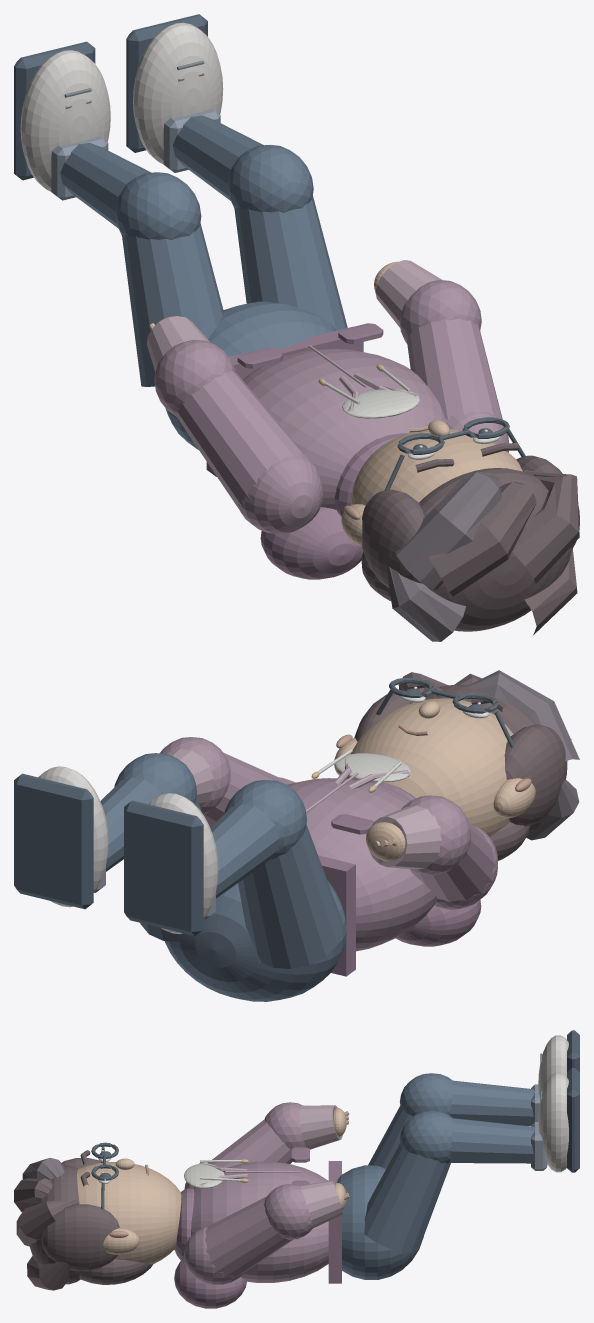
The model's file is designer_idle_0.glb.
The picture shows the model from 3 angles, top to bottom: view 1: azimuth 30°, elevation 25°; view 2: azimuth 150°, elevation 25°; view 3: azimuth 270°, elevation 25°; orthographic projection. The views are drawn at different scales.
Visible parts, largest first — view 1: 0000__hoodie_main_torso, 0065__jeans_thigh, 0046__jeans_thigh, 0057__sleeve_upper, 0050__sneaker, 0069__sneaker, 0076__sleeve_upper, 0022__hair_crown, 0017__face_head, 0026__hair_lock_0, 0027__hair_lock_1, 0014__pants_pelvis (+22 smaller); view 2: 0017__face_head, 0000__hoodie_main_torso, 0046__jeans_thigh, 0070__rubber_sole, 0051__rubber_sole, 0014__pants_pelvis, 0024__temple_side, 0048__jeans_shin, 0047__knee_fold, 0057__sleeve_upper, 0026__hair_lock_0, 0059__sleeve_forearm (+21 smaller); view 3: 0000__hoodie_main_torso, 0017__face_head, 0065__jeans_thigh, 0014__pants_pelvis, 0076__sleeve_upper, 0025__temple_side, 0067__jeans_shin, 0048__jeans_shin, 0069__sneaker, 0066__knee_fold, 0077__elbow_fold, 0057__sleeve_upper (+21 smaller).
Part boxes in pixels (bbox=[...]): 0000__hoodie_main_torso: bbox=[243, 349, 445, 509]; 0065__jeans_thigh: bbox=[234, 196, 347, 330]; 0046__jeans_thigh: bbox=[122, 223, 223, 386]; 0057__sleeve_upper: bbox=[176, 370, 303, 510]; 0050__sneaker: bbox=[20, 50, 110, 191]; 0069__sneaker: bbox=[133, 22, 223, 164]; 0076__sleeve_upper: bbox=[407, 318, 502, 420]; 0022__hair_crown: bbox=[419, 468, 571, 631]; 0017__face_head: bbox=[351, 429, 522, 505]; 0026__hair_lock_0: bbox=[395, 472, 502, 589]; 0027__hair_lock_1: bbox=[428, 481, 536, 596]; 0014__pants_pelvis: bbox=[165, 301, 336, 449]; 0017__face_head: bbox=[346, 698, 513, 836]; 0000__hoodie_main_torso: bbox=[287, 778, 436, 951]; 0046__jeans_thigh: bbox=[238, 824, 343, 968]; 0070__rubber_sole: bbox=[14, 773, 93, 909]; 0051__rubber_sole: bbox=[124, 800, 203, 935]; 0014__pants_pelvis: bbox=[164, 881, 346, 1001]; 0024__temple_side: bbox=[504, 724, 567, 826]; 0048__jeans_shin: bbox=[210, 804, 279, 898]; 0047__knee_fold: bbox=[224, 780, 306, 859]; 0057__sleeve_upper: bbox=[410, 821, 496, 902]; 0026__hair_lock_0: bbox=[467, 670, 579, 760]; 0059__sleeve_forearm: bbox=[368, 805, 441, 869]; 0000__hoodie_main_torso: bbox=[191, 1161, 328, 1282]; 0017__face_head: bbox=[77, 1162, 181, 1264]; 0065__jeans_thigh: bbox=[364, 1143, 450, 1252]; 0014__pants_pelvis: bbox=[336, 1165, 423, 1279]; 0076__sleeve_upper: bbox=[205, 1196, 292, 1277]; 0025__temple_side: bbox=[41, 1204, 119, 1271]; 0067__jeans_shin: bbox=[449, 1118, 535, 1163]; 0048__jeans_shin: bbox=[450, 1080, 535, 1125]; 0069__sneaker: bbox=[538, 1072, 568, 1172]; 0066__knee_fold: bbox=[399, 1110, 453, 1163]; 0077__elbow_fold: bbox=[264, 1184, 312, 1239]; 0057__sleeve_upper: bbox=[207, 1119, 292, 1167].
Size of the model in its own units: 0.816 by 0.8228 by 1.85.
